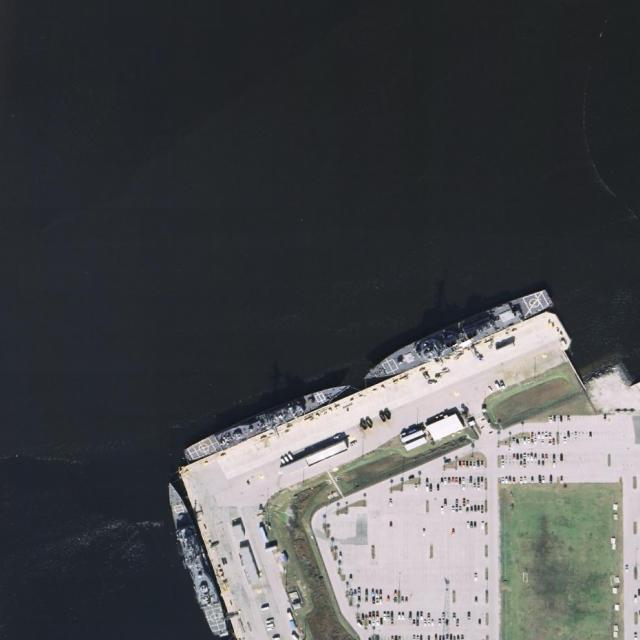Destroyer: (359, 286, 551, 385)
Frigate: (181, 378, 353, 463), (161, 478, 230, 638)
